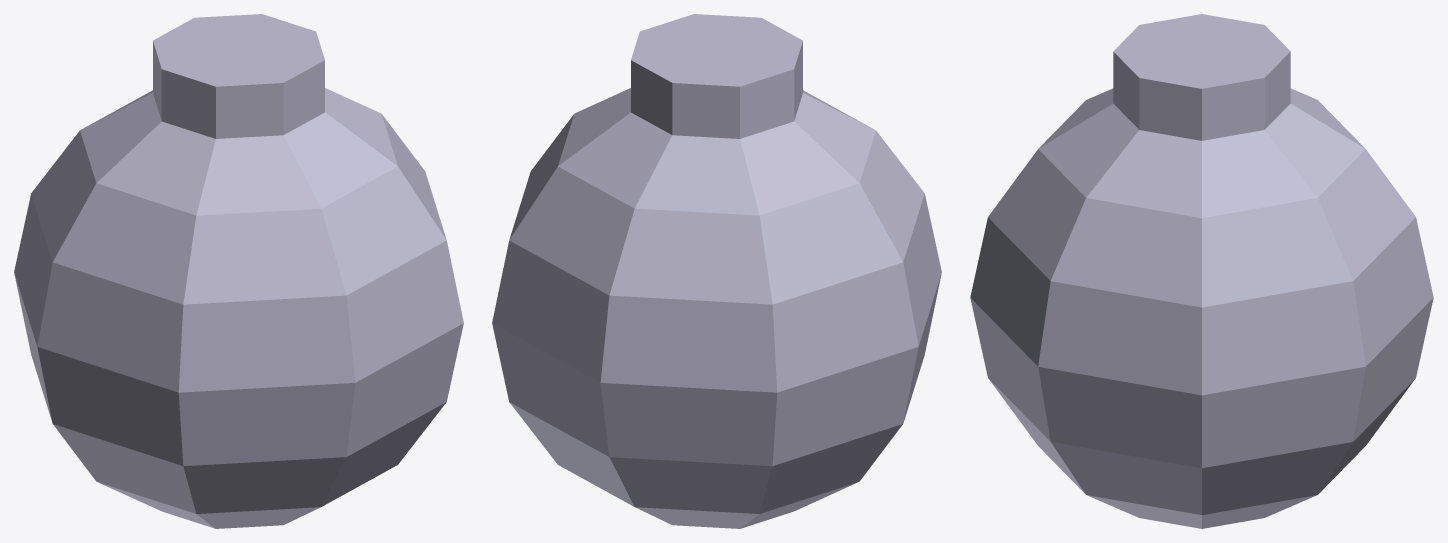
File: BoneBomb.fbx
3 views of the same model, side by side, from view 1: azimuth 30°, elevation 25°; view 2: azimuth 150°, elevation 25°; view 3: azimuth 270°, elevation 25° (orthographic).
Visible parts, largest first — view 1: pSphere2; view 2: pSphere2; view 3: pSphere2.
Part boxes in pixels (x1,y1,x2,y2): pSphere2: [14, 14, 463, 528]; pSphere2: [492, 14, 941, 528]; pSphere2: [970, 14, 1433, 528].
Bounding box in the file's own units: 0.6124 × 0.6649 × 0.6124.
